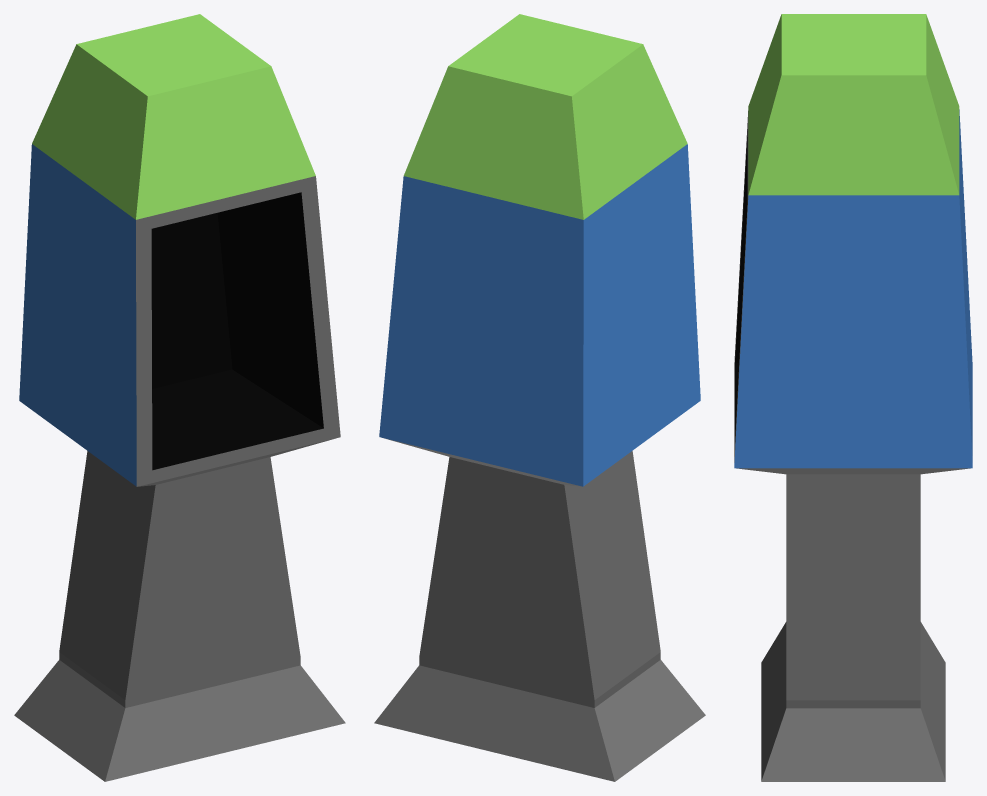
Rendered from payphone.fbx.
3 renders of one model, left to right at view 1: azimuth 30°, elevation 25°; view 2: azimuth 150°, elevation 25°; view 3: azimuth 270°, elevation 25°, orthographic.
Parts seen in each view (by area): view 1: phonebooth; view 2: phonebooth; view 3: phonebooth.
Boxes of the visible parts, x1,y1,x2,y2 form: phonebooth: (14, 14, 345, 781); phonebooth: (374, 14, 705, 781); phonebooth: (734, 14, 972, 781).
Bounding box in the file's own units: 206 × 543 × 174.
